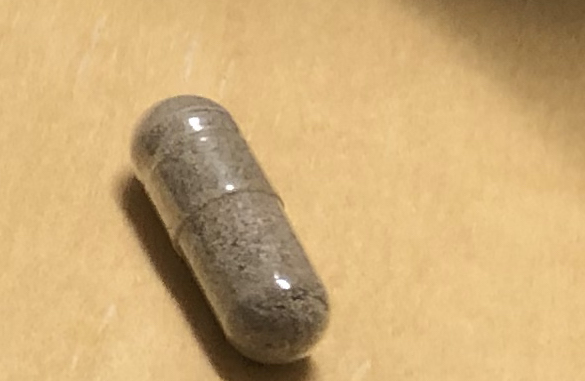capsule: (126, 91, 334, 368)
